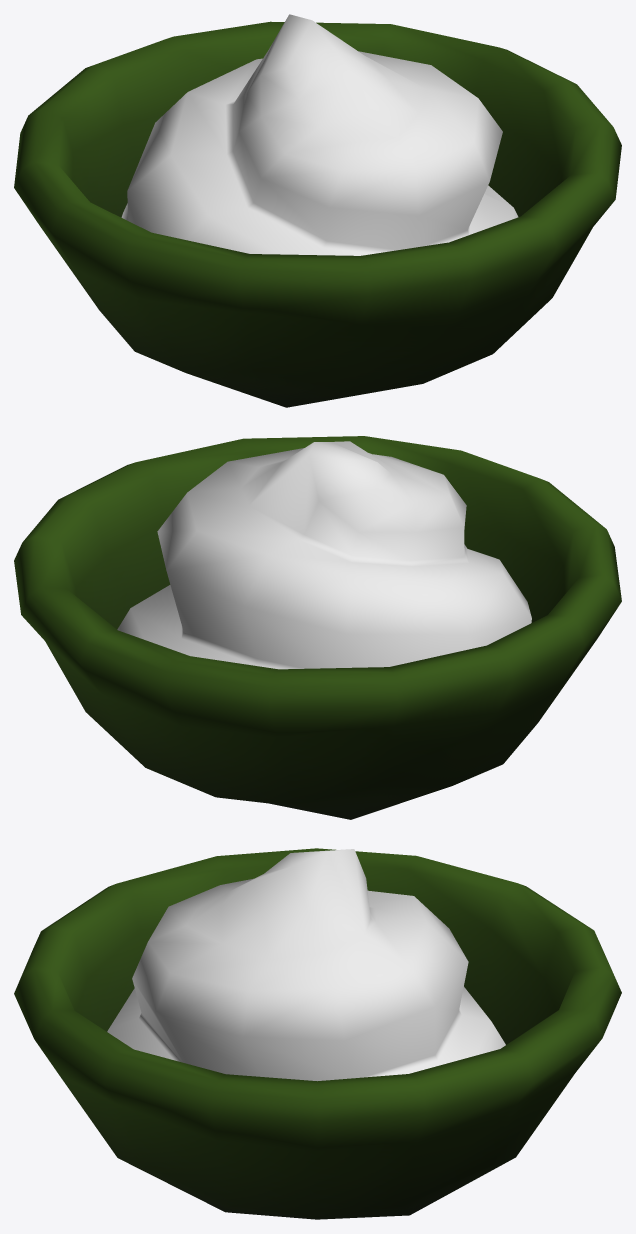
The model's file is Ketchup.fbx.
3 views of the same model, one above another, from view 1: azimuth 30°, elevation 25°; view 2: azimuth 150°, elevation 25°; view 3: azimuth 270°, elevation 25° (orthographic).
Visible parts, largest first — view 1: ketchup; view 2: ketchup; view 3: ketchup.
Part boxes in pixels (x1,y1,x2,y2): ketchup: (14,14,621,407); ketchup: (14,436,621,819); ketchup: (14,848,621,1219).
Bounding box in the file's own units: 10.44 × 6.15 × 10.44.
Materials: 2 (1 with a texture image).
